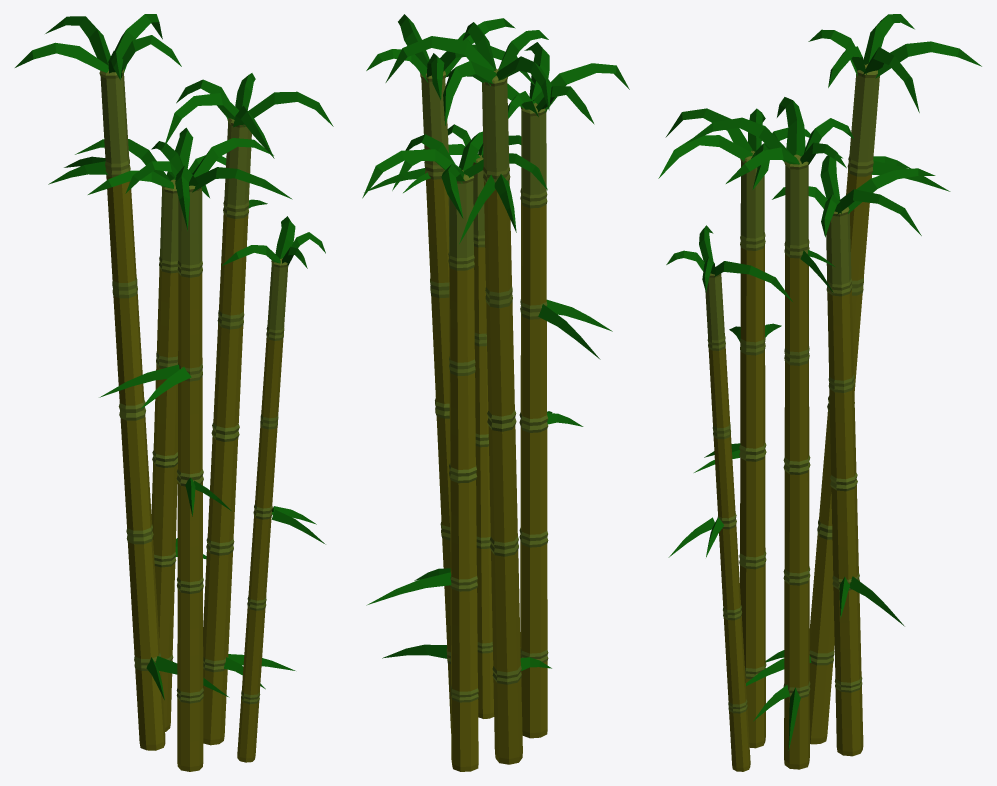
The model's file is bambou-01.gltf.
The picture shows the model from 3 angles, left to right: view 1: azimuth 30°, elevation 25°; view 2: azimuth 150°, elevation 25°; view 3: azimuth 270°, elevation 25°; orthographic projection. The views are drawn at different scales.
Visible parts, largest first — view 1: Bambou-1; view 2: Bambou-1; view 3: Bambou-1.
Part boxes in pixels (left/top/right/bottom): Bambou-1: left=15, top=14, right=333, bottom=771; Bambou-1: left=362, top=14, right=629, bottom=771; Bambou-1: left=658, top=14, right=981, bottom=771.
Size of the model in its own units: 2.16 by 6.4 by 2.68.
Materials: 5 (5 with a texture image).
